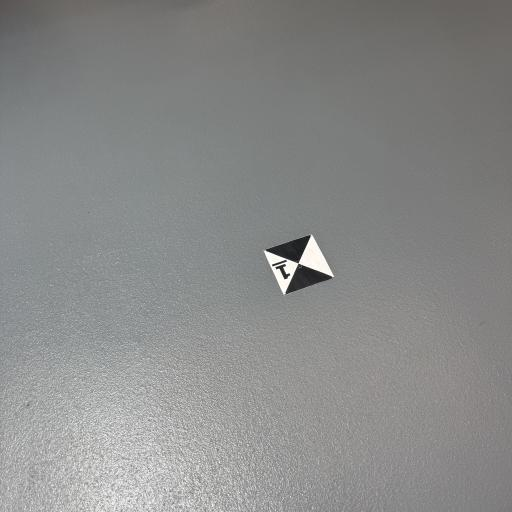target1: (264, 230, 343, 300)
